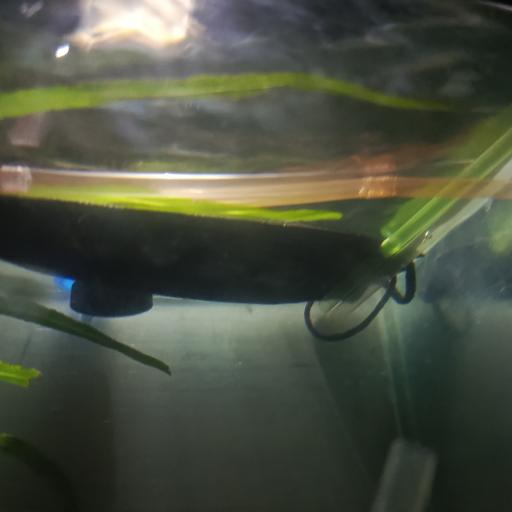bottle_cap: (70, 278, 154, 316)
mask: (1, 196, 418, 343)
plastic_straw: (316, 131, 512, 317), (0, 158, 459, 199), (88, 170, 512, 205)
